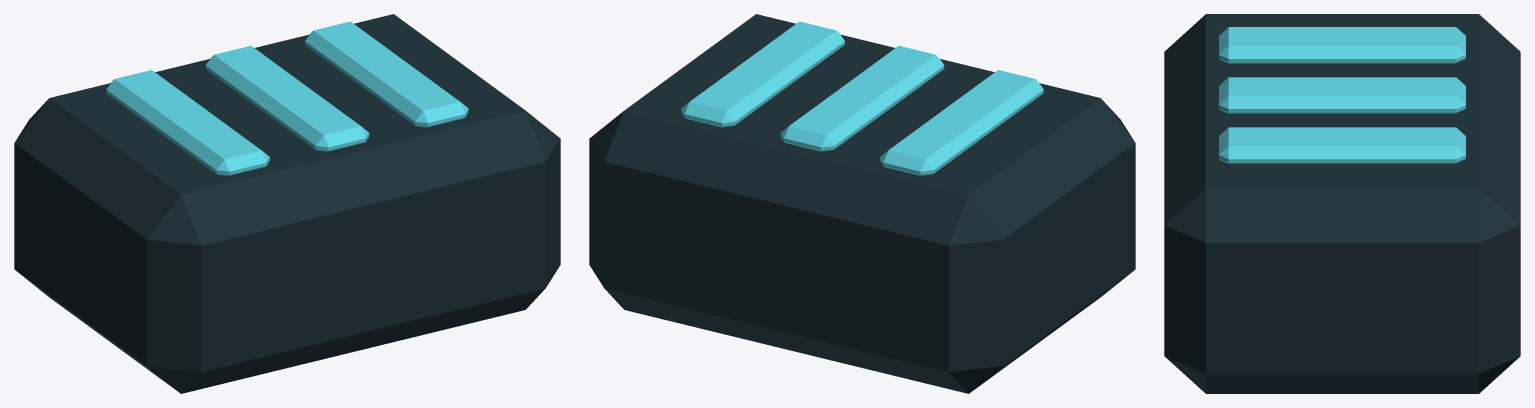
The model's file is ammo-pack.glb.
The picture shows the model from 3 angles, left to right: view 1: azimuth 30°, elevation 25°; view 2: azimuth 150°, elevation 25°; view 3: azimuth 270°, elevation 25°; orthographic projection. The views are drawn at different scales.
Visible parts, largest first — view 1: AmmoPack, AmmoMark1, AmmoMark2, AmmoMark0; view 2: AmmoPack, AmmoMark1, AmmoMark2, AmmoMark0; view 3: AmmoPack, AmmoMark0, AmmoMark2, AmmoMark1.
Boxes of the visible parts, x1,y1,x2,y2 form: AmmoPack: (14, 14, 560, 393); AmmoMark1: (205, 45, 369, 151); AmmoMark2: (305, 21, 468, 127); AmmoMark0: (106, 70, 269, 175); AmmoPack: (589, 14, 1135, 393); AmmoMark1: (780, 45, 944, 151); AmmoMark2: (681, 21, 844, 127); AmmoMark0: (880, 70, 1043, 175); AmmoPack: (1164, 14, 1520, 393); AmmoMark0: (1219, 27, 1465, 63); AmmoMark2: (1219, 127, 1465, 163); AmmoMark1: (1219, 77, 1465, 113).
Size of the model in its own units: 0.5 by 0.246 by 0.36.
